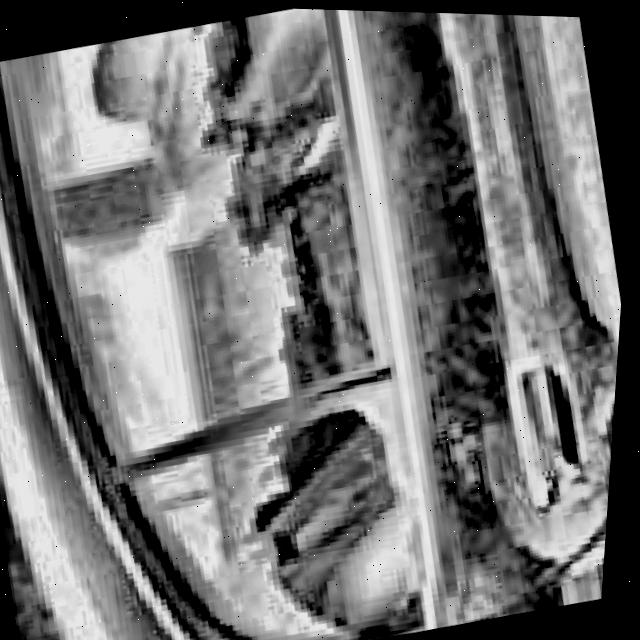glass_shatter: (226, 378, 450, 640)
